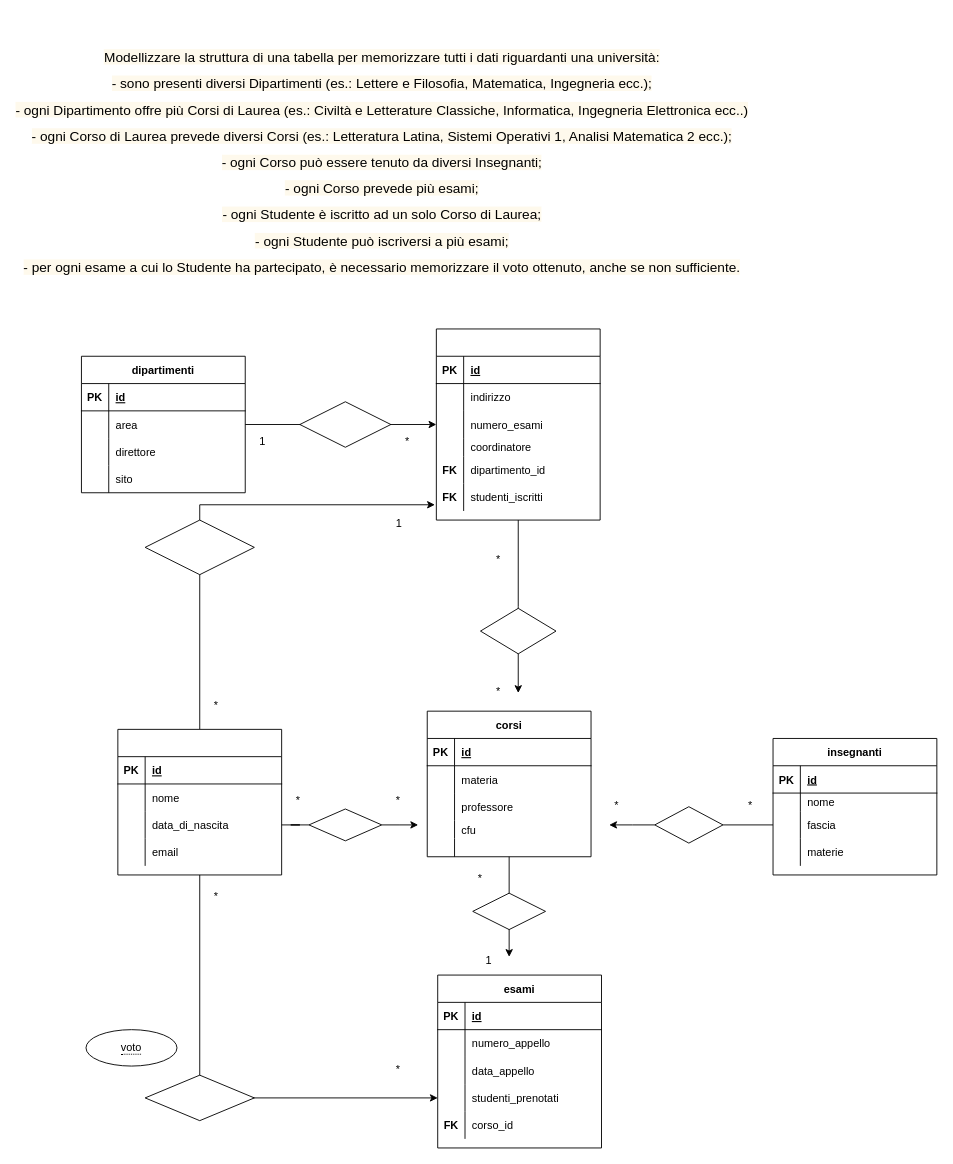
The diagram is 953 pixels wide and 1164 high, and some of its shapes have lost their labels. The box of each missing label's shape, as (x1, y1, x2, y2) in pixels:
corsi_di_laurea: (435, 328, 600, 520)
studenti: (117, 728, 282, 875)
